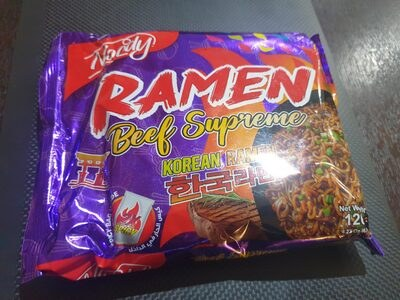Ramen beef supreme: (20, 15, 380, 285)
